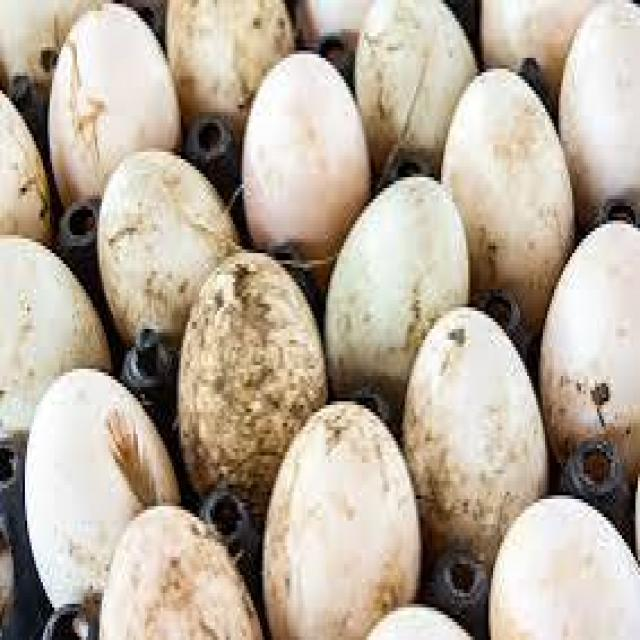White Egg: (176, 238, 326, 499)
